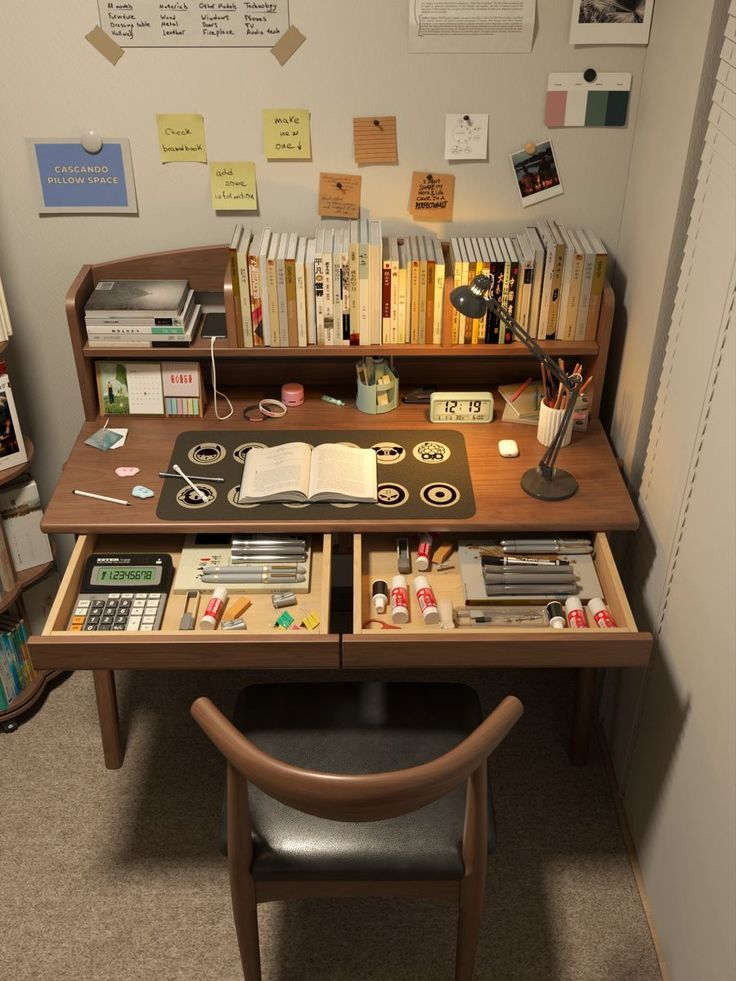not a gesture sign: (120, 241, 581, 712)
